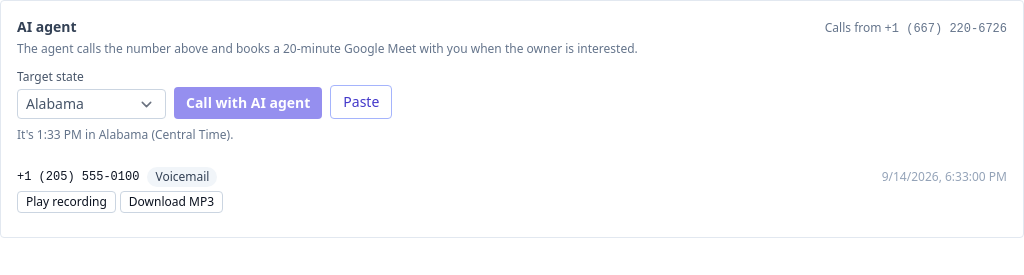
AiAgentPanel › recordings › shows why a recording could not load
Click the button "Play recording" at (66, 202), box [17,191,116,213]
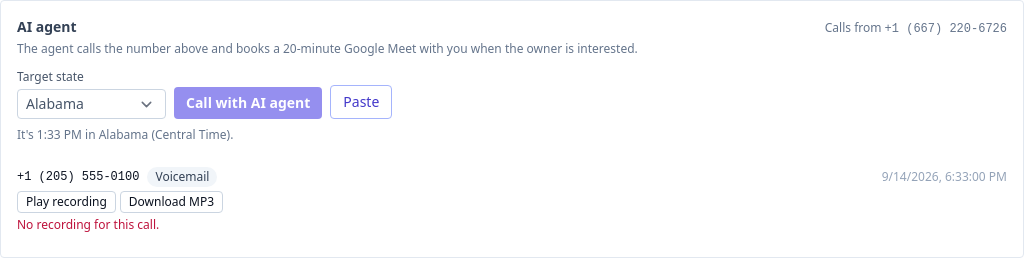
Now the text "No recording for this call." is shown, box [17,216,159,233]
